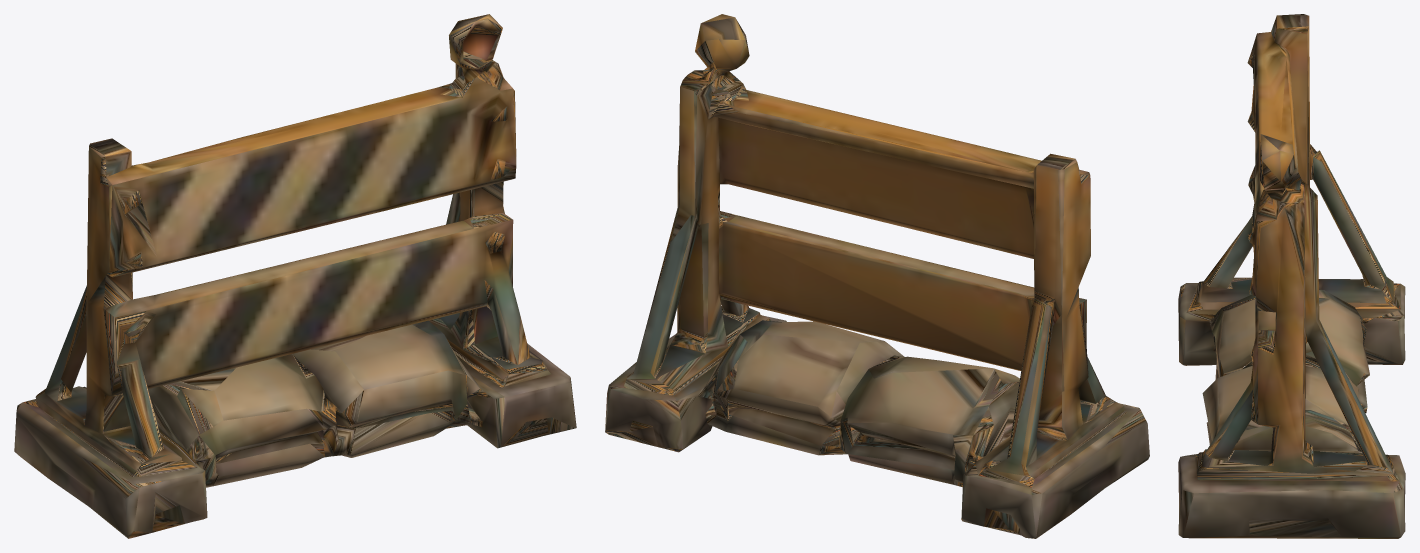
The model's file is barricade.glb.
The picture shows the model from 3 angles, left to right: view 1: azimuth 30°, elevation 25°; view 2: azimuth 150°, elevation 25°; view 3: azimuth 270°, elevation 25°; orthographic projection. The views are drawn at different scales.
Visible parts, largest first — view 1: tripo_node_8da19b11; view 2: tripo_node_8da19b11; view 3: tripo_node_8da19b11.
Part boxes in pixels (x1,y1,x2,y2): tripo_node_8da19b11: (14,14,576,538); tripo_node_8da19b11: (605,14,1149,538); tripo_node_8da19b11: (1178,14,1405,538).
Size of the model in its own units: 97.91 by 81.58 by 44.39.
Materials: 1 (1 with a texture image).
